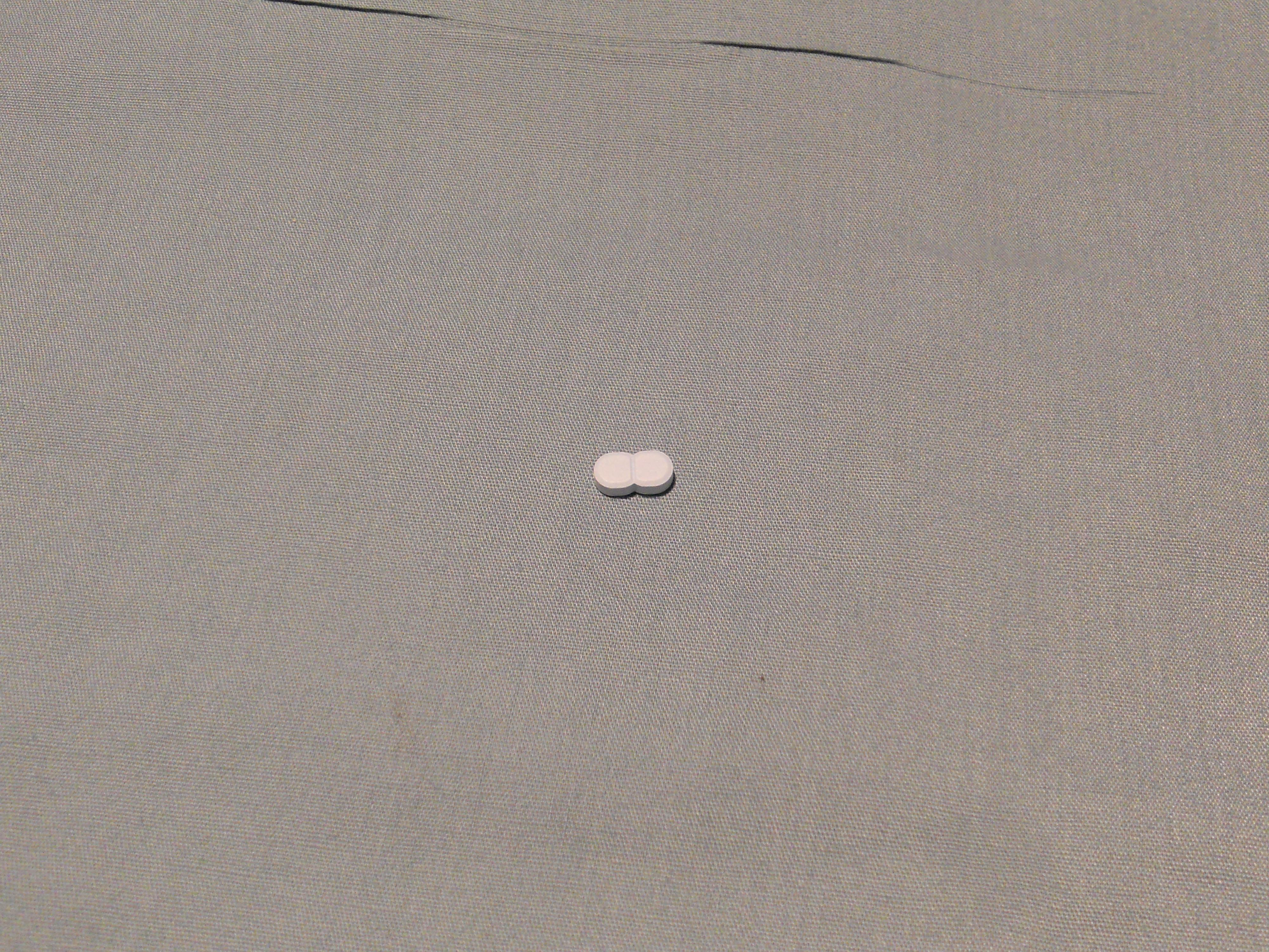Pill: (581, 447, 685, 511)
